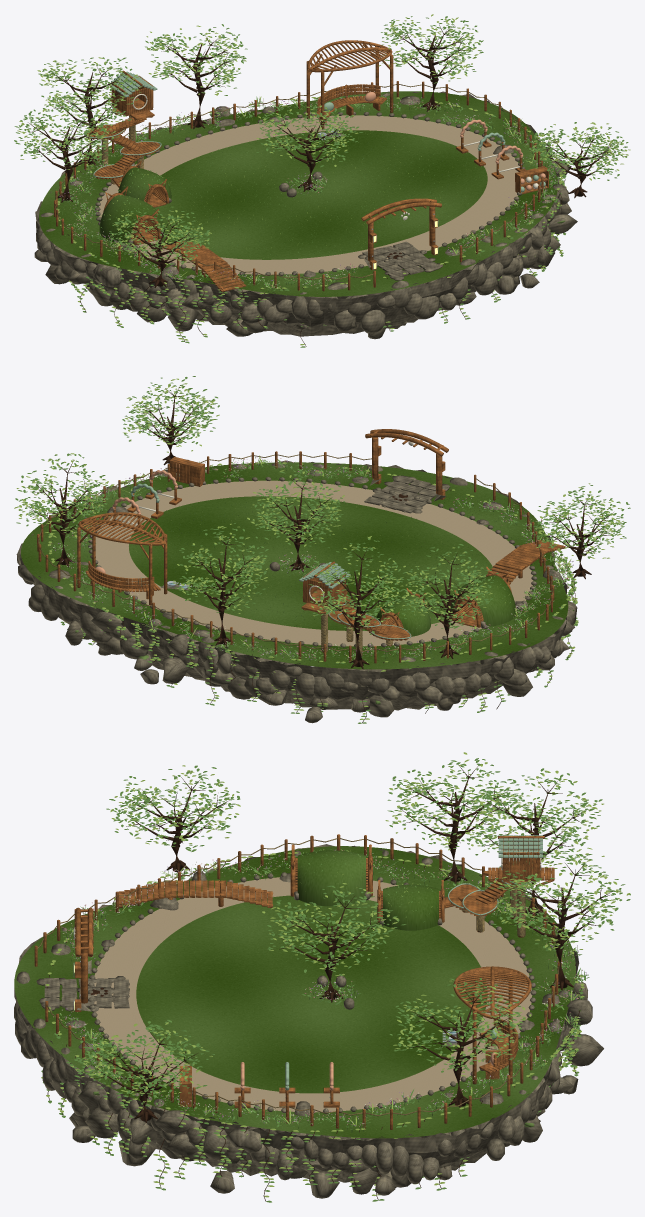
The model's file is play.glb.
3 renders of one model, top to bottom at view 1: azimuth 30°, elevation 25°; view 2: azimuth 150°, elevation 25°; view 3: azimuth 270°, elevation 25°, orthographic. The views are drawn at different scales.
Visible parts, largest first — view 1: Paw play Living turf, Paw play Layered limestone, Paw play Leaf green, Paw play Honey oak, Paw play Warm gravel, Paw play Leaf sun tips, Paw play Weathered bark, Paw play Woven natural fibre, Paw play Sage painted edges, Paw play Daisy ivory petals, Paw play Small blush flowers, Paw play Apricot painted edges (+1 smaller); view 2: Paw play Living turf, Paw play Layered limestone, Paw play Leaf green, Paw play Honey oak, Paw play Warm gravel, Paw play Leaf sun tips, Paw play Weathered bark, Paw play Woven natural fibre, Paw play Sage painted edges, Paw play Daisy ivory petals, Paw play Verbena lilac petals, Paw play Small blush flowers; view 3: Paw play Living turf, Paw play Layered limestone, Paw play Leaf green, Paw play Honey oak, Paw play Warm gravel, Paw play Leaf sun tips, Paw play Weathered bark, Paw play Woven natural fibre, Paw play Sage painted edges, Paw play Verbena lilac petals, Paw play Small blush flowers.
Part boxes in pixels (<box>): Paw play Living turf: <box>39,91,557,296</box>; Paw play Layered limestone: <box>34,91,577,339</box>; Paw play Leaf green: <box>14,16,628,347</box>; Paw play Honey oak: <box>54,40,548,292</box>; Paw play Warm gravel: <box>98,115,519,274</box>; Paw play Leaf sun tips: <box>17,14,630,345</box>; Paw play Weathered bark: <box>28,24,615,346</box>; Paw play Woven natural fibre: <box>55,84,542,279</box>; Paw play Sage painted edges: <box>84,71,545,192</box>; Paw play Daisy ivory petals: <box>62,96,557,288</box>; Paw play Small blush flowers: <box>60,96,557,288</box>; Paw play Apricot painted edges: <box>364,92,545,190</box>; Paw play Living turf: <box>21,462,568,669</box>; Paw play Layered limestone: <box>16,460,577,723</box>; Paw play Leaf green: <box>15,376,630,723</box>; Paw play Honey oak: <box>37,429,565,663</box>; Paw play Warm gravel: <box>95,480,533,646</box>; Paw play Leaf sun tips: <box>14,378,623,719</box>; Paw play Weathered bark: <box>28,385,613,722</box>; Paw play Woven natural fibre: <box>38,454,553,656</box>; Paw play Sage painted edges: <box>130,473,411,639</box>; Paw play Daisy ivory petals: <box>50,458,568,658</box>; Paw play Verbena lilac petals: <box>55,457,573,661</box>; Paw play Small blush flowers: <box>51,458,569,659</box>; Paw play Living turf: <box>14,846,575,1138</box>; Paw play Layered limestone: <box>14,844,603,1198</box>; Paw play Leaf green: <box>41,758,630,1202</box>; Paw play Honey oak: <box>34,834,561,1129</box>; Paw play Warm gravel: <box>94,877,532,1112</box>; Paw play Leaf sun tips: <box>41,752,630,1197</box>; Paw play Weathered bark: <box>47,764,612,1201</box>; Paw play Woven natural fibre: <box>37,838,559,1116</box>; Paw play Sage painted edges: <box>285,835,542,1090</box>; Paw play Verbena lilac petals: <box>64,849,586,1125</box>; Paw play Small blush flowers: <box>53,850,579,1126</box>.
Size of the model in its own units: 28.74 by 11.33 by 24.93.
Materials: 19 (6 with a texture image).
